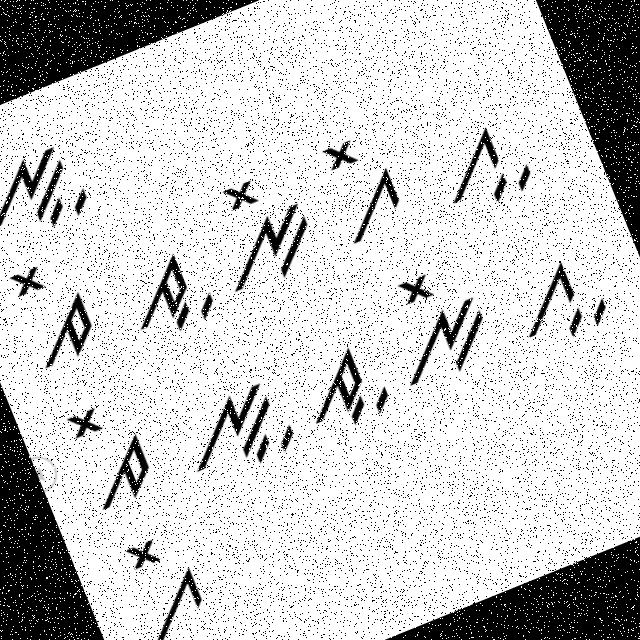gah: (492, 239, 622, 370), (421, 101, 552, 229)
go: (302, 119, 420, 252), (105, 518, 224, 639)
ngah: (171, 365, 307, 489), (0, 126, 102, 262)
ngo: (364, 250, 504, 401), (190, 158, 332, 303)
tah: (284, 328, 398, 441), (110, 236, 224, 348)
to: (50, 380, 166, 521), (0, 249, 107, 380)
